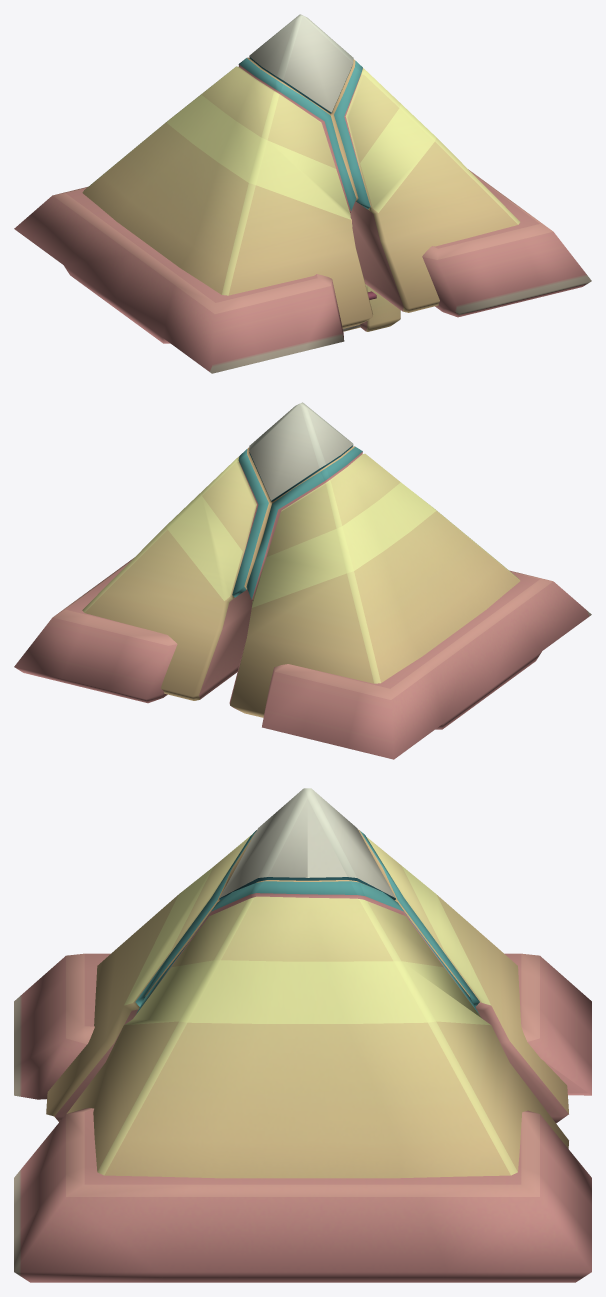
Rendered from Desert_Temple_Set_01.fbx.
The picture shows the model from 3 angles, top to bottom: view 1: azimuth 30°, elevation 25°; view 2: azimuth 150°, elevation 25°; view 3: azimuth 270°, elevation 25°; orthographic projection. The views are drawn at different scales.
Parts seen in each view (by area): view 1: Pyramid, Building1; view 2: Pyramid; view 3: Pyramid.
Part boxes in pixels (x1,y1,x2,y2): Pyramid: [14, 14, 591, 373]; Building1: [343, 219, 400, 331]; Pyramid: [14, 402, 591, 759]; Pyramid: [14, 788, 591, 1282].
Size of the model in its own units: 44.32 by 33.16 by 40.01.
Materials: 1 (1 with a texture image).
